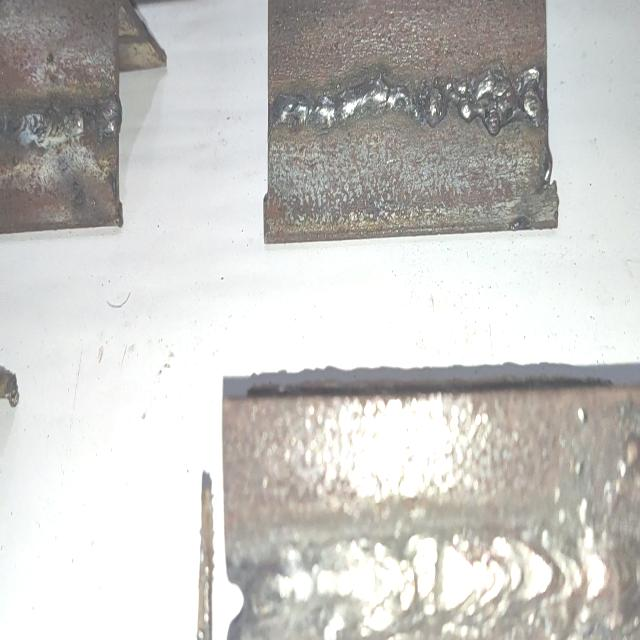Bad Weld: (276, 71, 541, 129)
Defect: (455, 56, 545, 136), (0, 99, 117, 150)
Good Weld: (233, 530, 640, 626)
